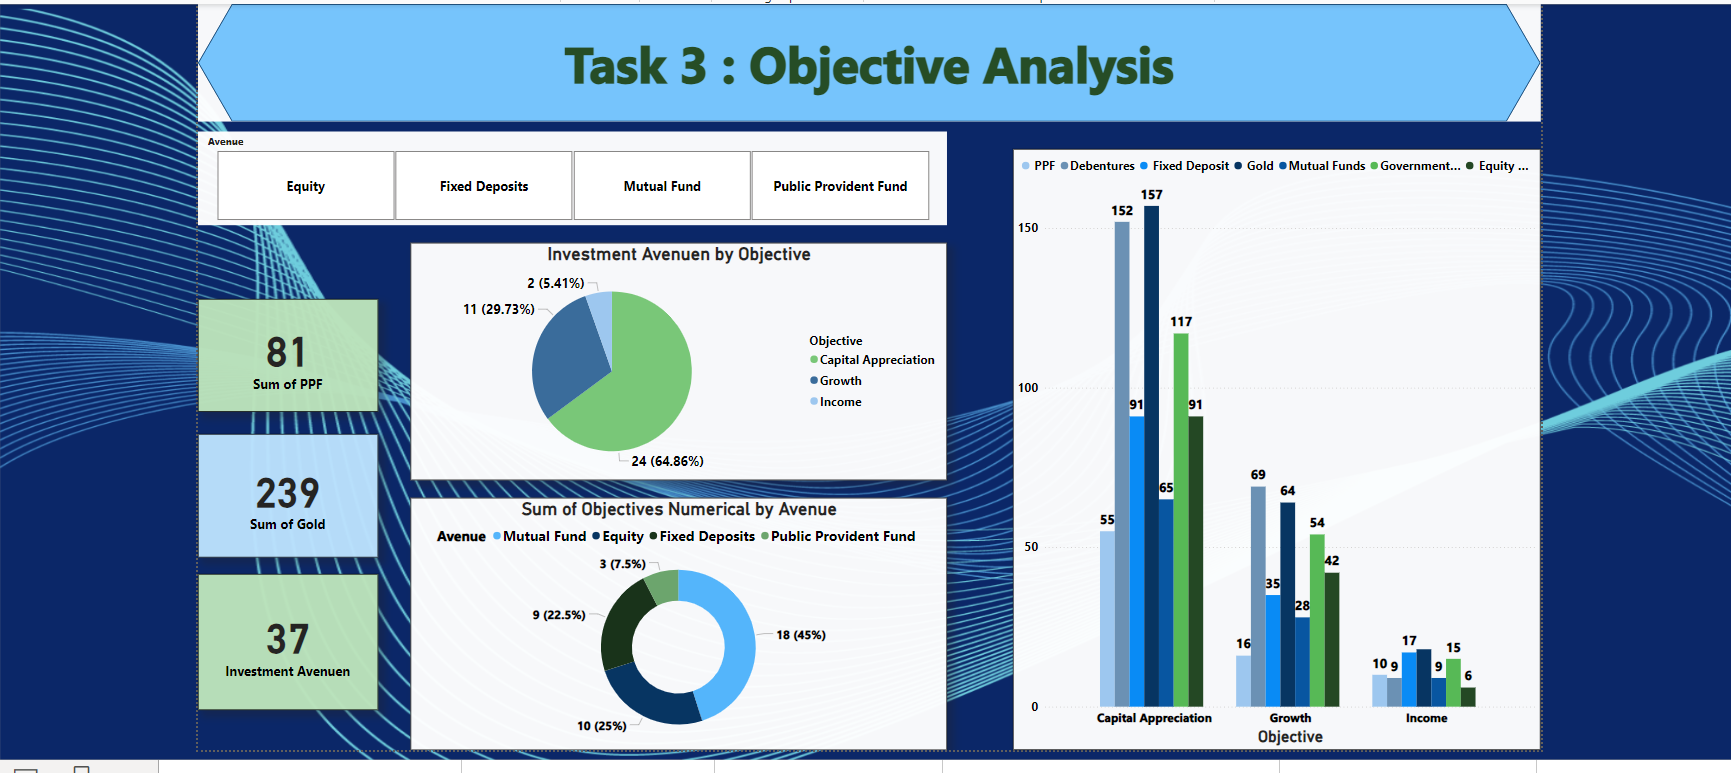

Layout of this report page (visuals, bound fields, positions):
{"tool":"powerbi","page":{"name":"Task 3 : Objective Analysis","canvas":[1800,1000],"ordinal":2},"visuals":[{"type":"shape","box":[0,0,1799.6,157.5],"z":0},{"type":"donutChart","title":"Sum of Objectives Numerical by Avenue","fields":{"Y":["CountNonNull(Data_set 2.What are your savings objectives?)"],"Category":["Data_set 2.Avenue"]},"box":[284.9,661.9,718.8,338.5],"z":1000},{"type":"clusteredColumnChart","fields":{"Y":["Sum(Data_set 2.PPF)","Sum(Data_set 2.Debentures)","Sum(Data_set 2.Fixed_Deposits)","Sum(Data_set 2.Gold)","Sum(Data_set 2.Mutual_Funds)","Sum(Data_set 2.Government_Bonds)","Sum(Data_set 2.Equity_Market)"],"Category":["Data_set 2.Objective"]},"box":[1092.5,194.4,707.1,806],"z":2000},{"type":"card","fields":{"Values":["Data_set 2.Investment Avenuen"]},"box":[0,764.1,241.3,182.6],"z":3000},{"type":"slicer","fields":{"Values":["Data_set 2.Avenue"]},"box":[0,170.9,1003.7,125.7],"z":4000},{"type":"card","fields":{"Values":["Sum(Data_set 2.Gold)"]},"box":[0,576.4,241.3,165.9],"z":5000},{"type":"pieChart","fields":{"Category":["Data_set 2.Objective"],"Y":["Data_set 2.Investment Avenuen"]},"box":[284.9,320,718.8,318.4],"z":6000},{"type":"card","fields":{"Values":["Sum(Data_set 2.PPF)"]},"box":[0,395.4,241.3,150.8],"z":7000}]}

Visuals, with their boxes on the page's 1800x1000 design canvas (x1, y1, x2, y2). These are canvas units, not pixel positions in the 1731x773 screenshot, which may show the page scaled, cropped or inside an application window:
shape: (x1=0, y1=0, x2=1800, y2=158)
"Sum of Objectives Numerical by Avenue" donutChart: (x1=285, y1=662, x2=1004, y2=1000)
clusteredColumnChart - Sum(Data_set 2.PPF) x Sum(Data_set 2.Debentures): (x1=1092, y1=194, x2=1800, y2=1000)
card - Data_set 2.Investment Avenuen: (x1=0, y1=764, x2=241, y2=947)
slicer - Data_set 2.Avenue: (x1=0, y1=171, x2=1004, y2=297)
card - Sum(Data_set 2.Gold): (x1=0, y1=576, x2=241, y2=742)
pieChart - Data_set 2.Objective x Data_set 2.Investment Avenuen: (x1=285, y1=320, x2=1004, y2=638)
card - Sum(Data_set 2.PPF): (x1=0, y1=395, x2=241, y2=546)
